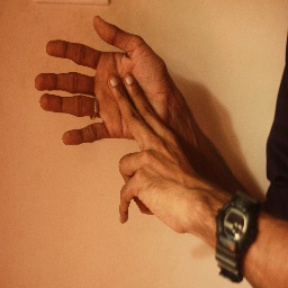N: (25, 10, 196, 217)
